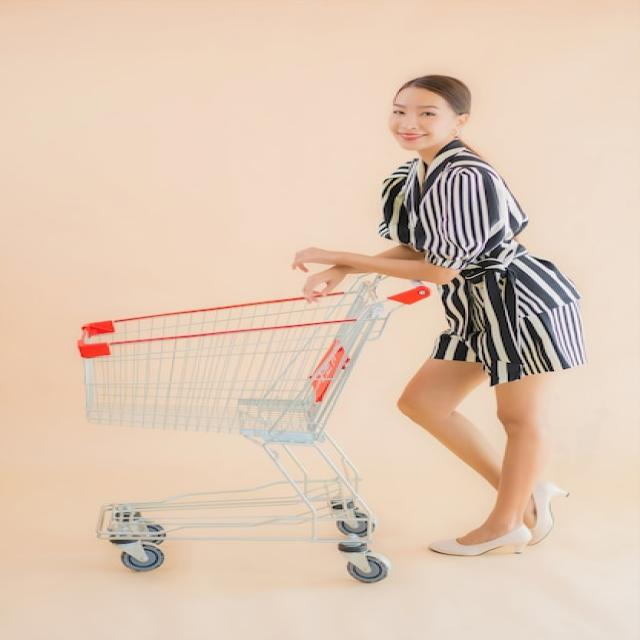Person: (290, 75, 586, 558)
